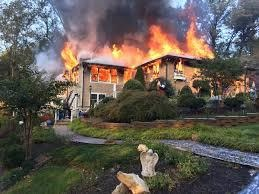fire: (67, 18, 213, 84), (59, 41, 79, 80), (220, 73, 253, 95)
